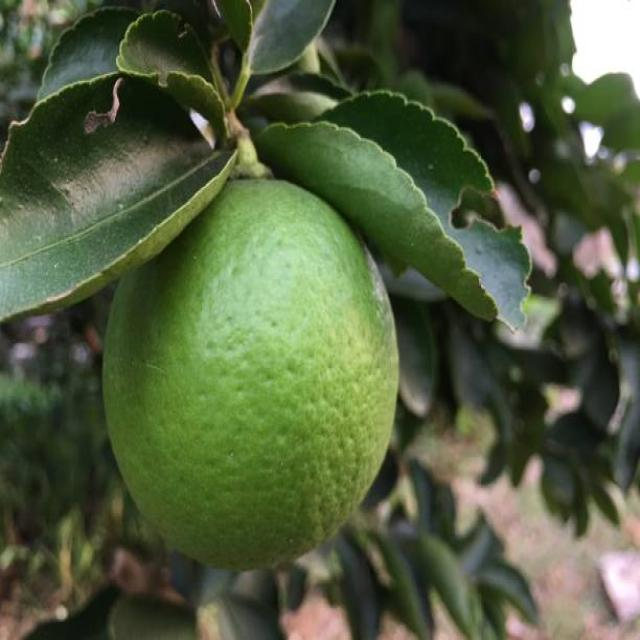Unripe: (105, 170, 399, 568)
